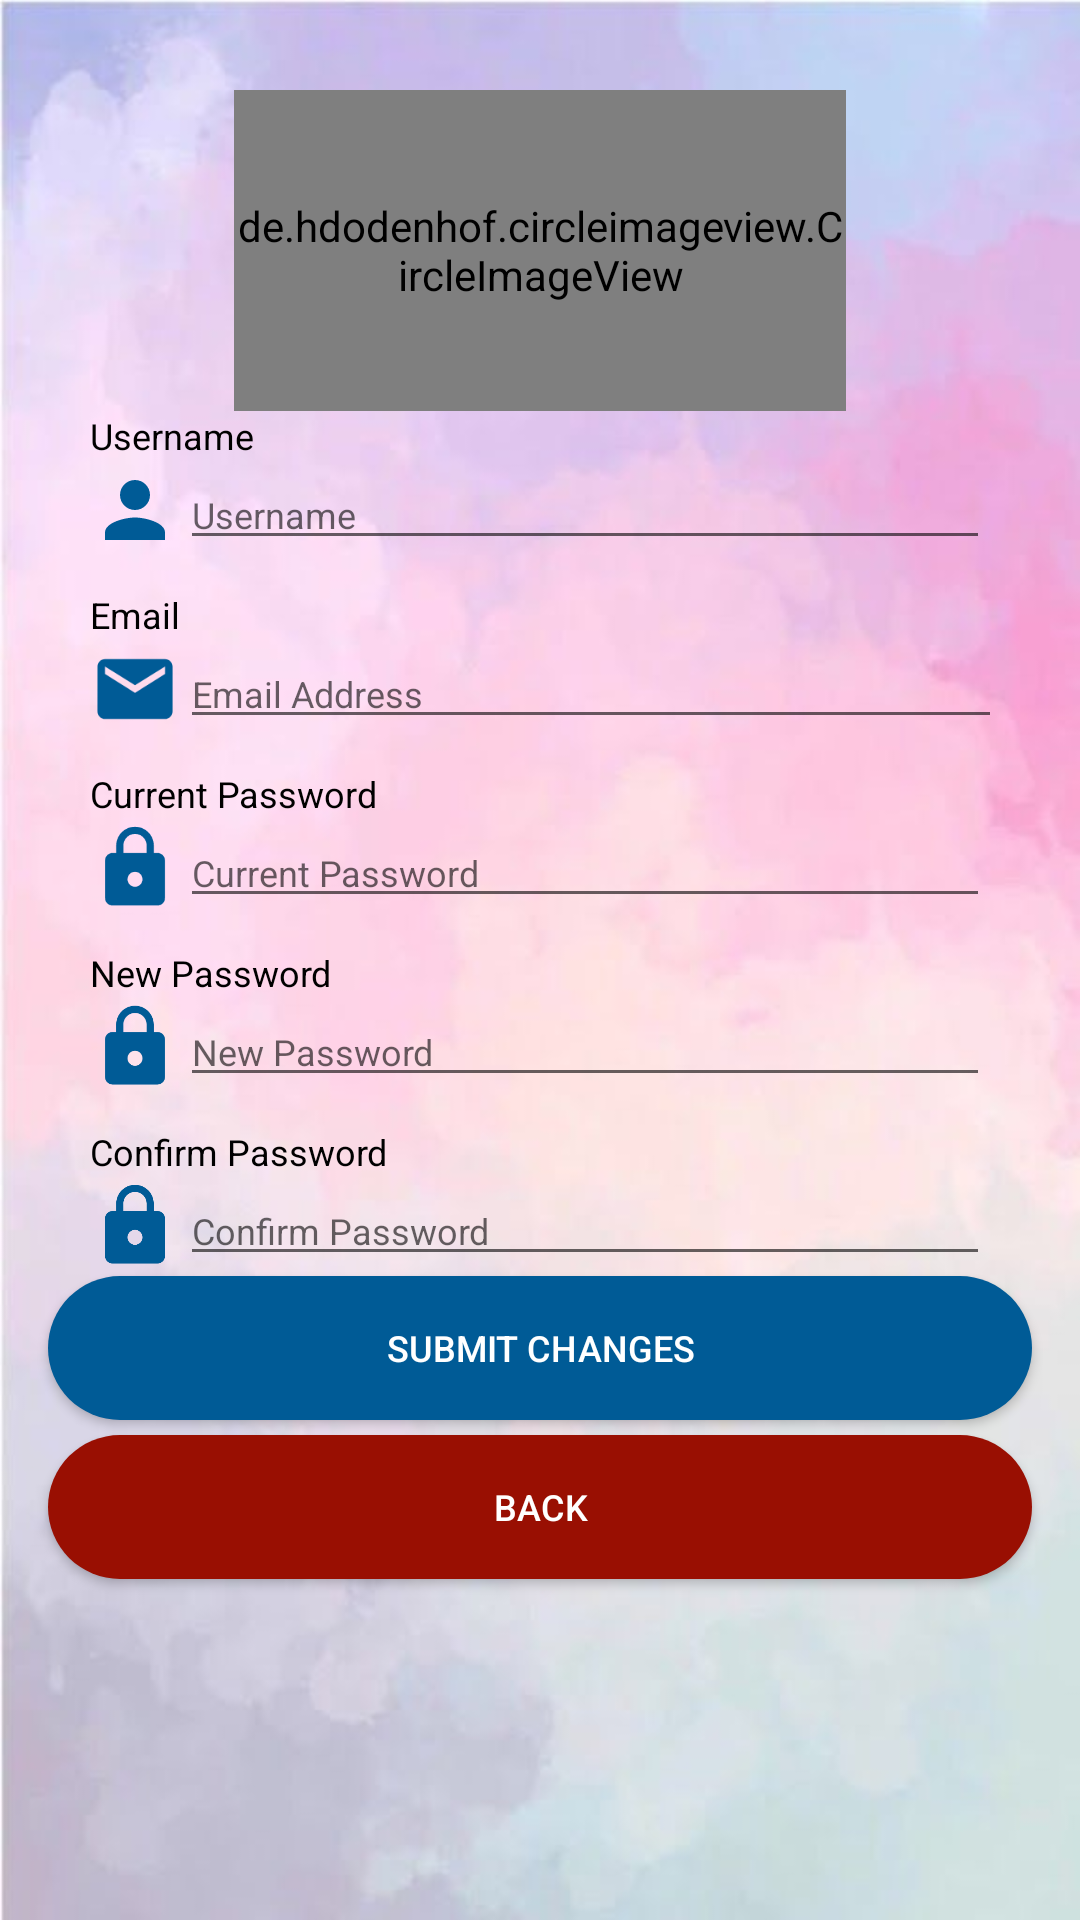

Where icons sit on this 1080px x 1920px app screen, as BBox(x1, y1, x2, y2):
lock: BBox(105, 826, 165, 906), BBox(105, 1005, 165, 1085), BBox(105, 1185, 165, 1264)
person: BBox(105, 480, 165, 540)
